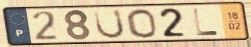2: (159, 7, 191, 39), (31, 10, 60, 42)
8: (63, 9, 93, 41)
L: (191, 7, 221, 37)
O: (125, 8, 160, 39)
U: (92, 8, 127, 40)
